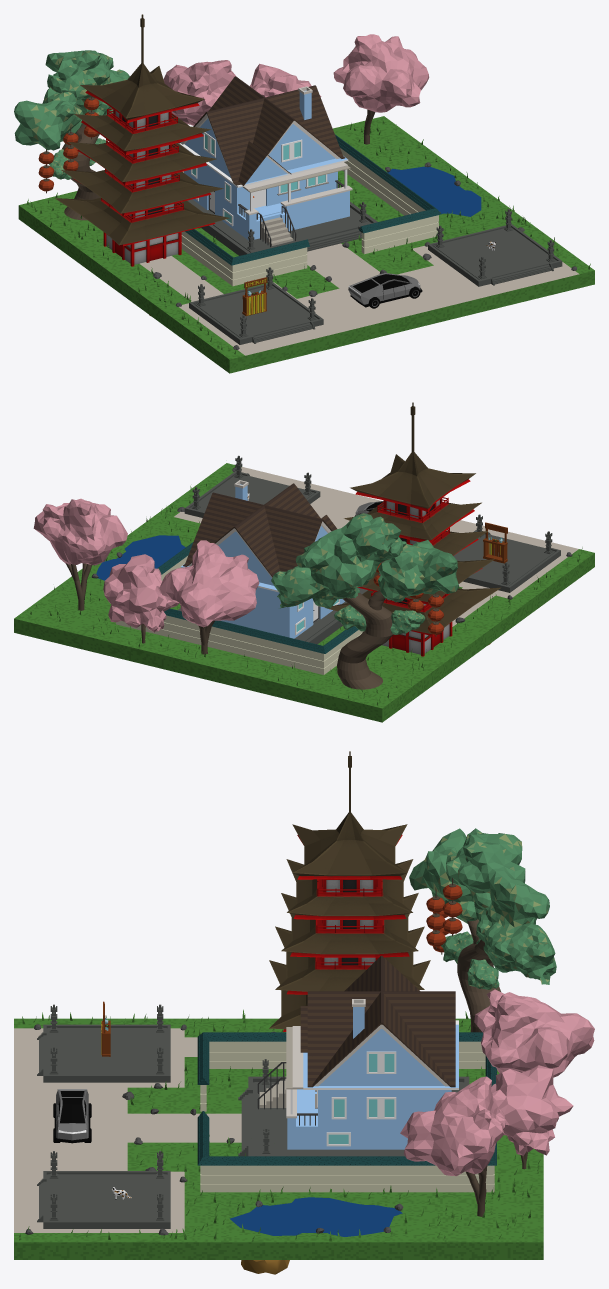
The picture shows the model from 3 angles, top to bottom: view 1: azimuth 30°, elevation 25°; view 2: azimuth 150°, elevation 25°; view 3: azimuth 270°, elevation 25°; orthographic projection. The views are drawn at different scales.
Parts seen in each view (by area): view 1: Cube.005, Cube.1594, VEHICLES_CYBERTRUCK, OBJRANDOM_LEMONADE_STAND; view 2: Cube.005, Cube.1594, OBJRANDOM_LEMONADE_STAND; view 3: Cube.005, Cube.1594, VEHICLES_CYBERTRUCK.
Boxes of the visible parts, left/top/right/bottom form: Cube.005: left=14, top=14, right=594, bottom=373; Cube.1594: left=178, top=76, right=352, bottom=247; VEHICLES_CYBERTRUCK: left=348, top=273, right=422, bottom=308; OBJRANDOM_LEMONADE_STAND: left=242, top=277, right=267, bottom=316; Cube.005: left=14, top=402, right=594, bottom=722; Cube.1594: left=180, top=480, right=344, bottom=638; OBJRANDOM_LEMONADE_STAND: left=483, top=522, right=507, bottom=563; Cube.005: left=14, top=751, right=594, bottom=1259; Cube.1594: left=257, top=956, right=458, bottom=1149; VEHICLES_CYBERTRUCK: left=53, top=1089, right=91, bottom=1143.
Bounding box in the file's own units: 4528 × 2803 × 4389.
43 materials, 5 textured.
